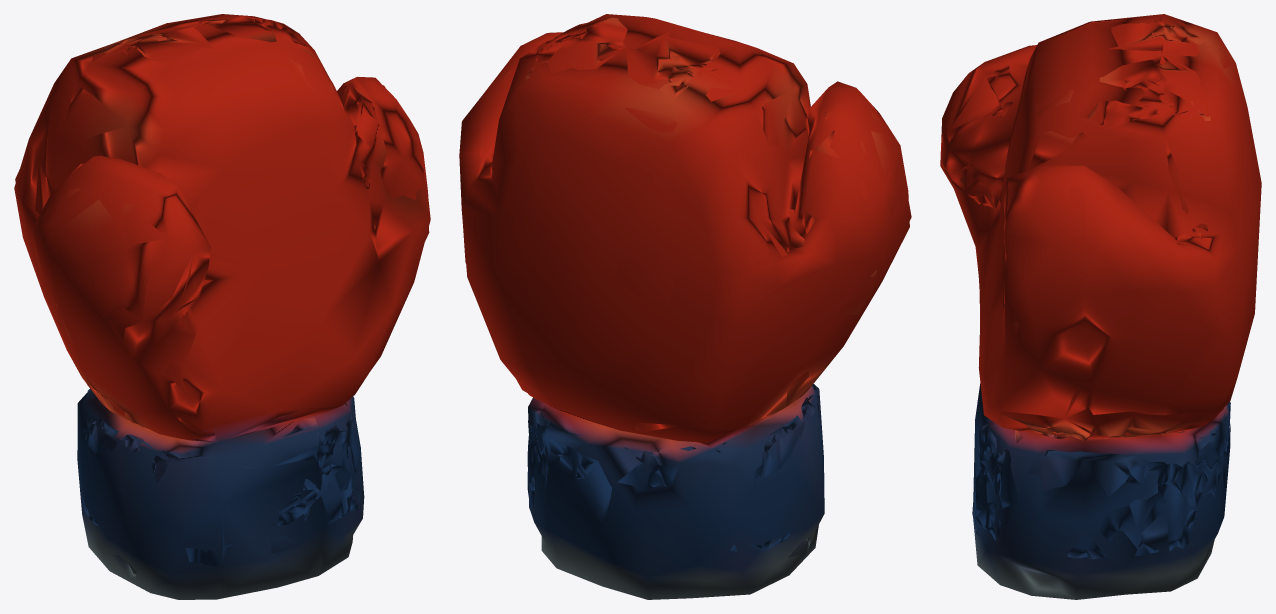
File: gen3d-boxing-glove-lod0.glb
The picture shows the model from 3 angles, left to right: view 1: azimuth 30°, elevation 25°; view 2: azimuth 150°, elevation 25°; view 3: azimuth 270°, elevation 25°; orthographic projection. The views are drawn at different scales.
Visible parts, largest first — view 1: part_0; view 2: part_0; view 3: part_0.
Part boxes in pixels (x1,y1,x2,y2): part_0: (14, 14, 430, 599); part_0: (459, 14, 911, 599); part_0: (940, 14, 1261, 599).
Size of the model in its own units: 0.7795 by 0.9968 by 0.5797.
